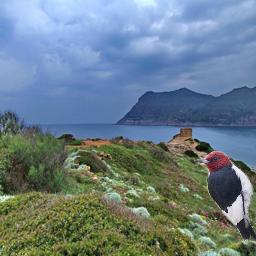Woodpecker: (194, 151, 256, 241)
